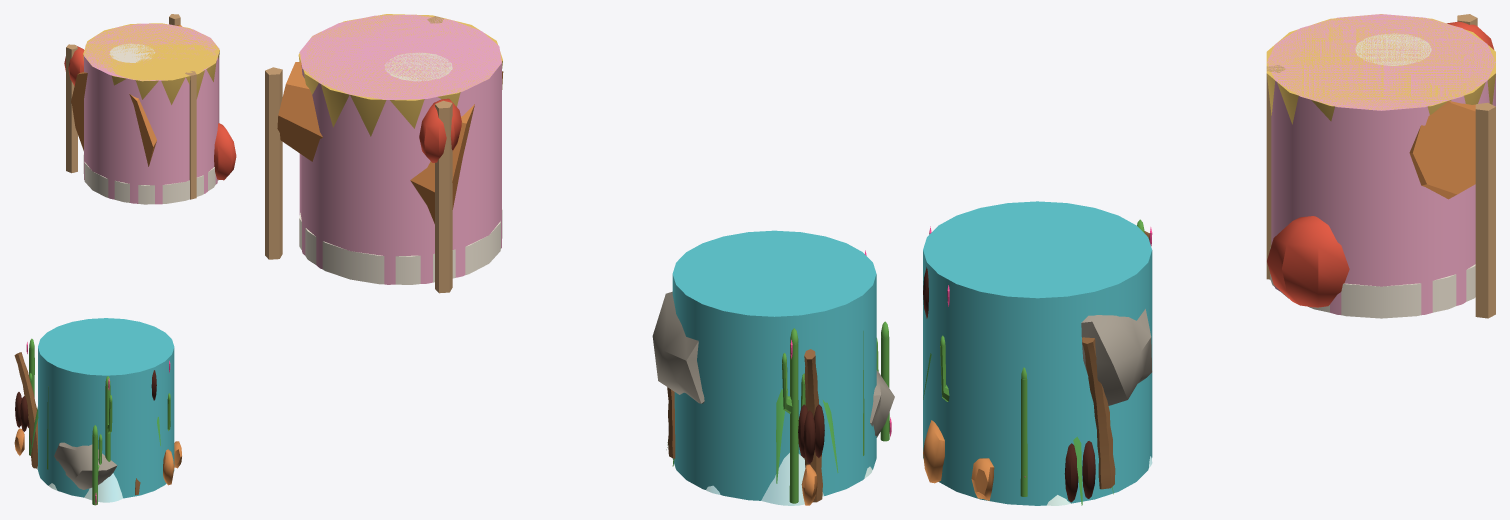
Rendered from ile-ambre.glb.
The picture shows the model from 3 angles, left to right: view 1: azimuth 30°, elevation 25°; view 2: azimuth 150°, elevation 25°; view 3: azimuth 270°, elevation 25°; orthographic projection. The views are drawn at different scales.
Parts seen in each view (by area): view 1: ambre_mirage, ambre_decor, ambre_terrain; view 2: ambre_mirage, ambre_decor, ambre_terrain; view 3: ambre_mirage, ambre_decor.
Boxes of the visible parts, left/top/right/bottom form: ambre_mirage: left=64, top=14, right=236, bottom=204; ambre_decor: left=14, top=318, right=181, bottom=505; ambre_terrain: left=37, top=466, right=122, bottom=502; ambre_mirage: left=265, top=14, right=503, bottom=293; ambre_decor: left=652, top=230, right=894, bottom=505; ambre_terrain: left=706, top=453, right=872, bottom=505; ambre_mirage: left=1266, top=14, right=1495, bottom=318; ambre_decor: left=923, top=201, right=1152, bottom=505.
Size of the model in its own units: 4.5 by 4.97 by 5.
